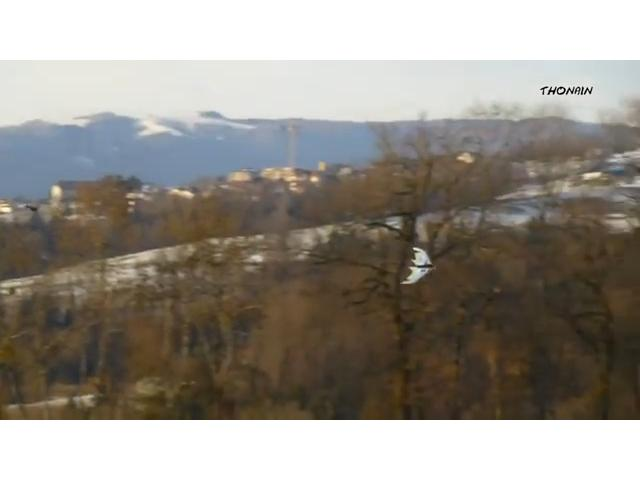Anti-Drone: (402, 247, 436, 285)
